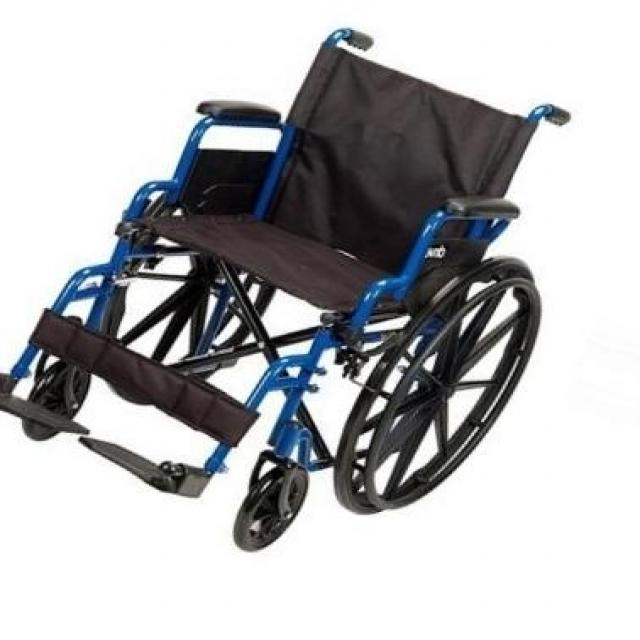wheelchair: (4, 12, 586, 563)
